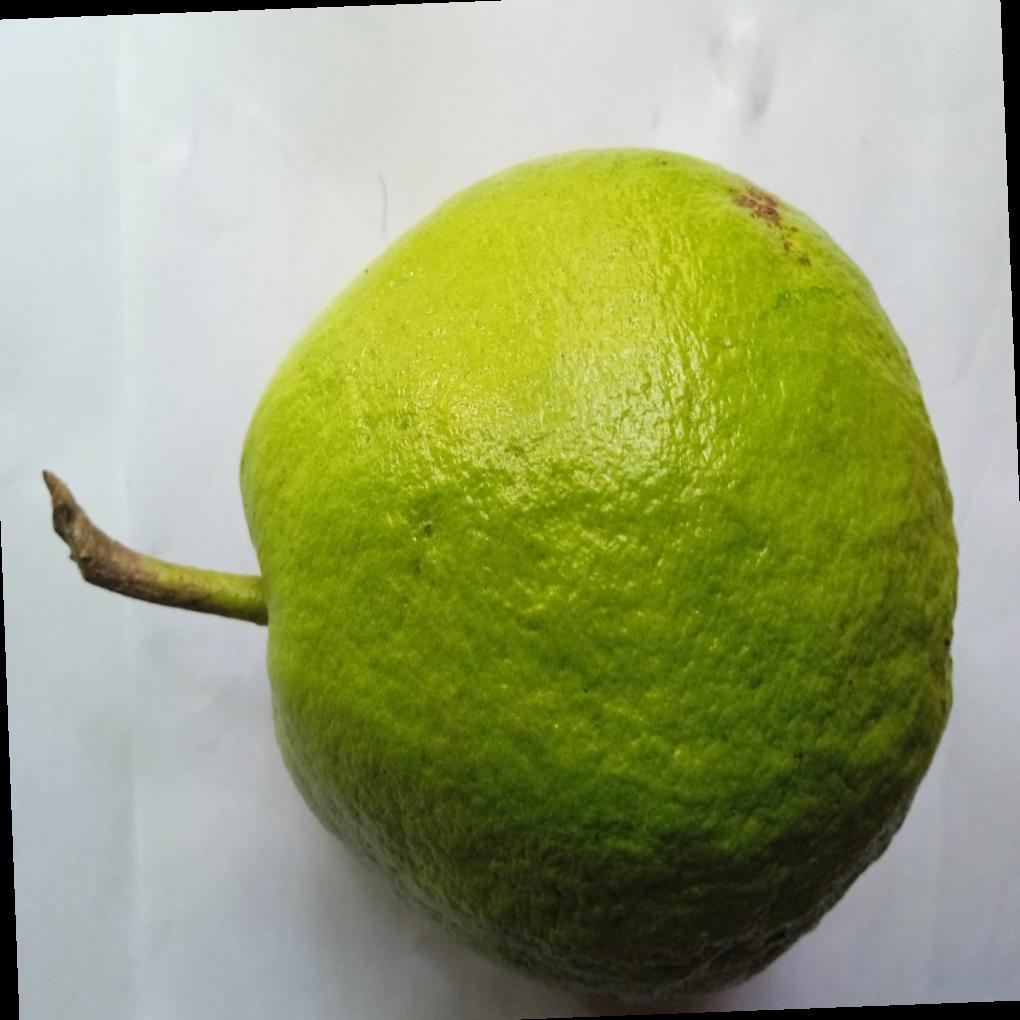FreshGuava: (43, 147, 960, 1010)
